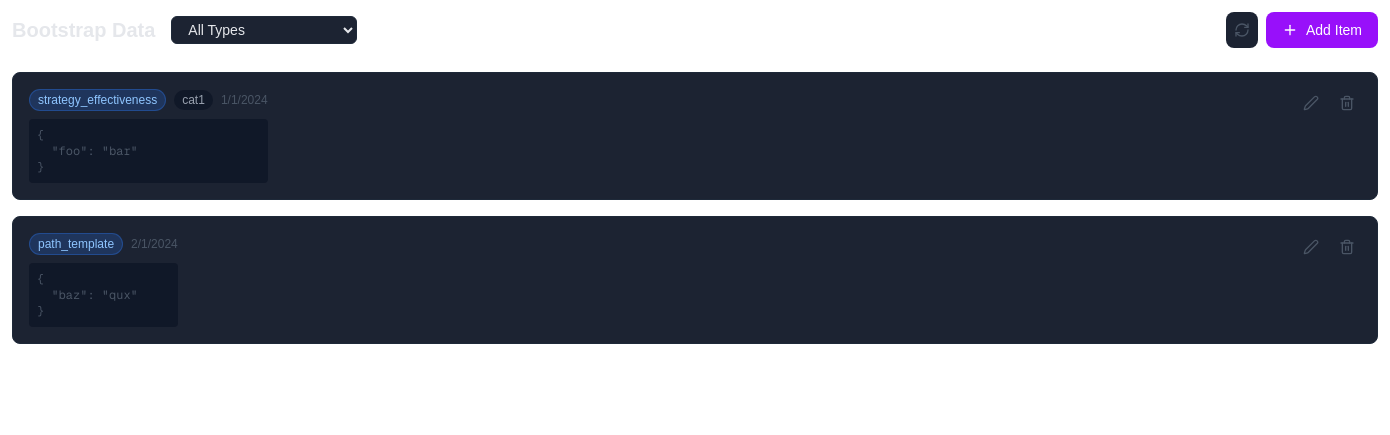
it: BootstrapTab › handles delete error
expect the text "cat1" is shown: met, box x1=174 y1=90 x2=213 y2=110
What coordinates should you click on to do the following:
click the button with test id "delete-btn-b1"
I would click on:
 (1347, 103)
Its box is x1=1333 y1=89 x2=1361 y2=117.
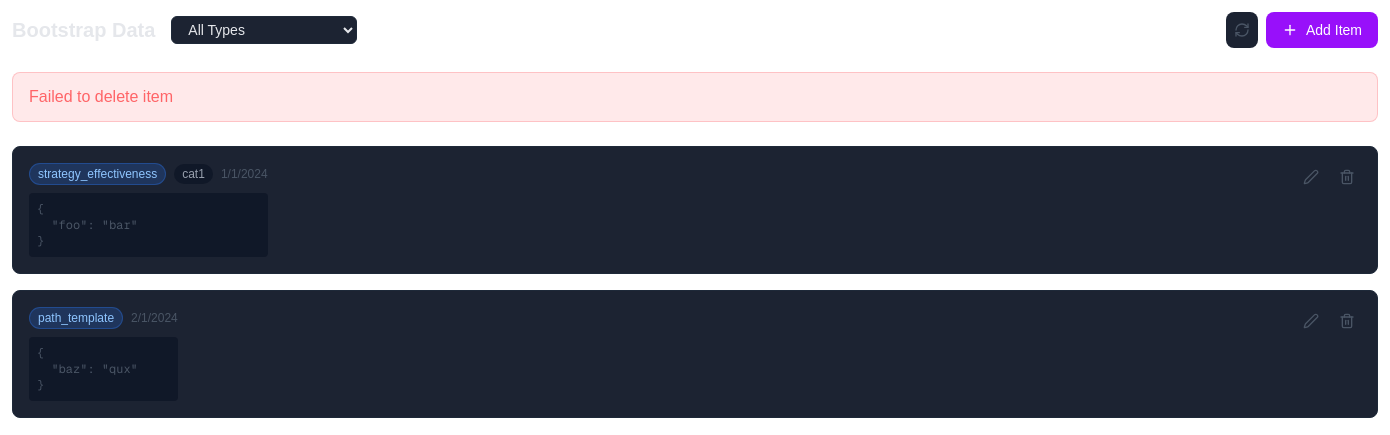
expect the text "Failed to delete item" is shown: met, box x1=12 y1=72 x2=1378 y2=122
